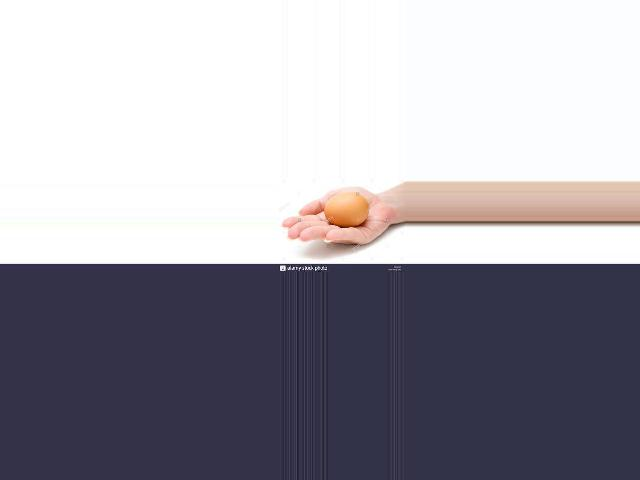egg: (325, 191, 370, 227)
